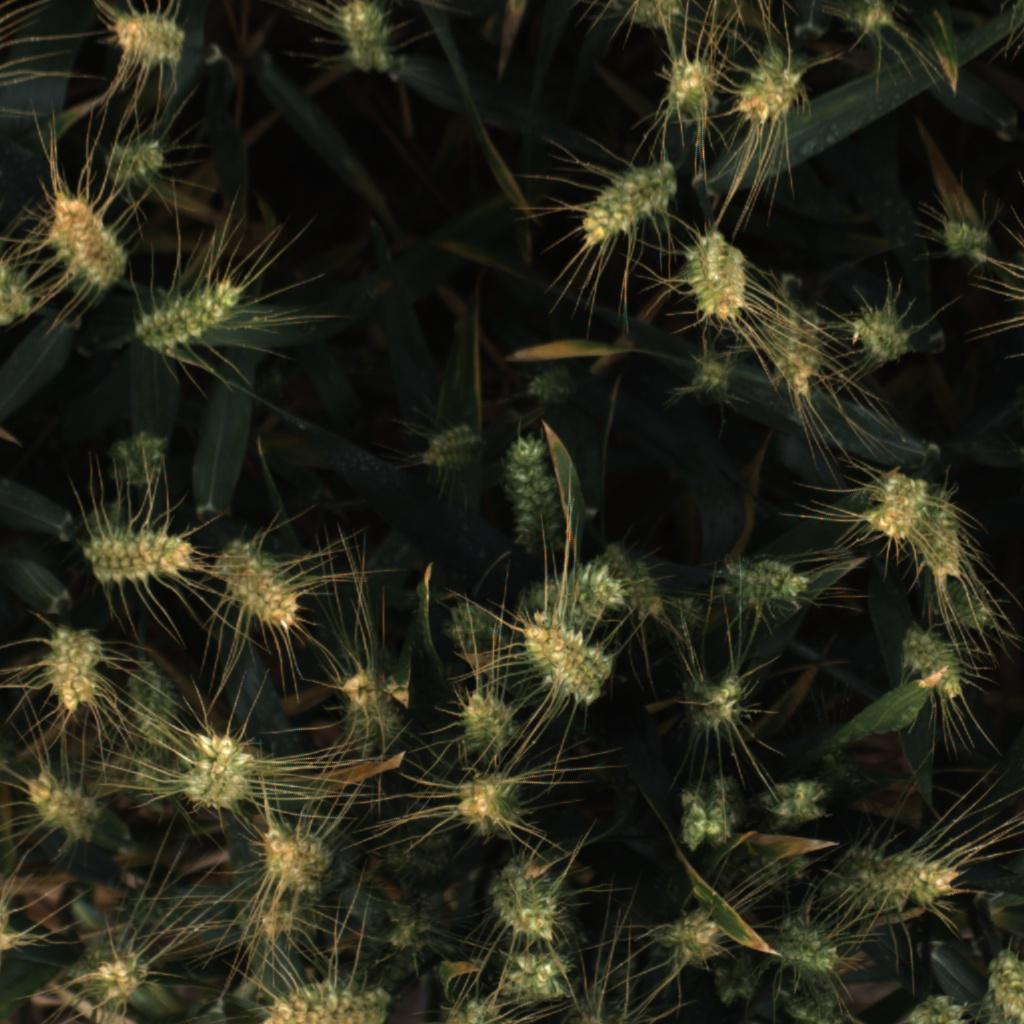0-0: (820, 838, 962, 914), (574, 153, 677, 250), (520, 614, 615, 708), (136, 278, 251, 355), (218, 535, 305, 635), (502, 428, 566, 554), (46, 193, 127, 287), (80, 527, 198, 588), (262, 968, 389, 1024), (712, 551, 821, 615), (684, 233, 756, 329), (178, 724, 257, 811), (335, 663, 408, 756), (74, 938, 162, 1015), (256, 817, 338, 897), (671, 773, 750, 855), (19, 767, 102, 844), (494, 856, 565, 943), (42, 621, 105, 718), (735, 44, 808, 127), (603, 543, 674, 628), (452, 766, 528, 844), (529, 563, 630, 621), (107, 0, 189, 71), (894, 623, 964, 706), (494, 943, 582, 1009), (98, 425, 183, 493), (326, 0, 400, 77), (766, 302, 824, 398), (449, 684, 527, 755), (754, 769, 839, 834), (918, 485, 974, 579), (760, 909, 842, 973), (656, 43, 724, 119), (128, 661, 186, 748), (844, 300, 920, 366), (863, 464, 926, 543), (675, 667, 748, 735), (374, 832, 467, 884), (374, 892, 445, 960), (701, 852, 806, 897), (415, 413, 484, 480), (940, 574, 1005, 645), (652, 907, 725, 970), (98, 130, 169, 185), (815, 737, 873, 801), (708, 951, 765, 1016), (933, 210, 994, 265), (786, 976, 855, 1024), (520, 362, 587, 411), (440, 597, 493, 658), (682, 353, 740, 408), (837, 0, 901, 42), (605, 0, 681, 34), (0, 253, 36, 323), (890, 992, 967, 1024), (246, 902, 294, 953), (442, 989, 505, 1024), (132, 751, 163, 802)
